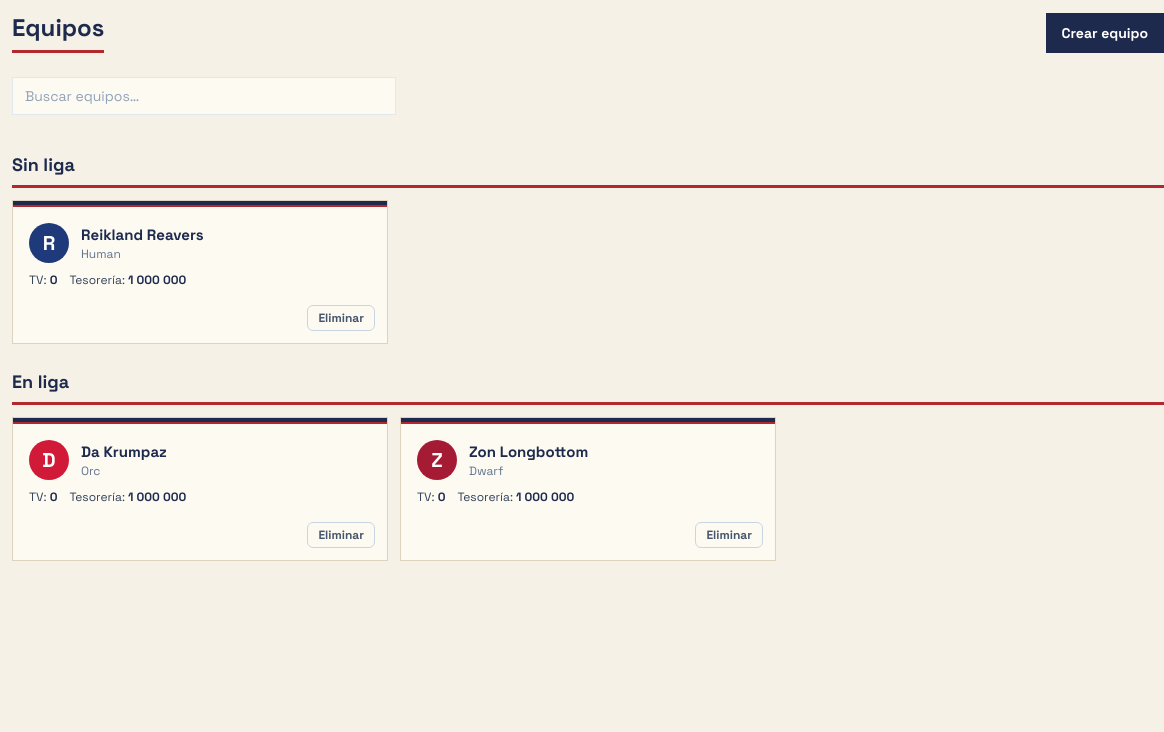
Test case: TeamsListViewV2 full translation (task 2.1) › filters BOTH sections by the search query
Expected: the heading "Reikland Reavers" is shown, [81, 225, 204, 244]
Type "krumpaz" into the search field labelled "Buscar equipos…" at (204, 96), box [12, 77, 396, 115]
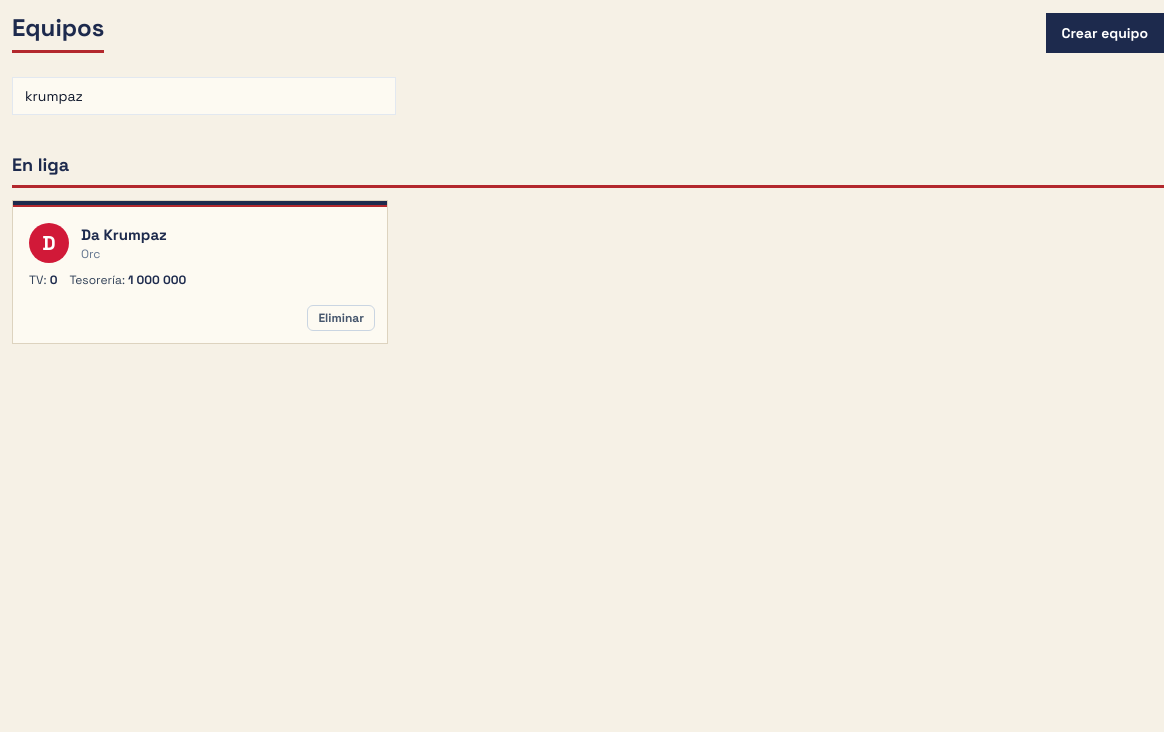
Expected: the heading "Da Krumpaz" is shown, [81, 225, 167, 244]
Expected: the link "Reikland Reavers" is gone
Expected: the link "Zon Longbottom" is gone
